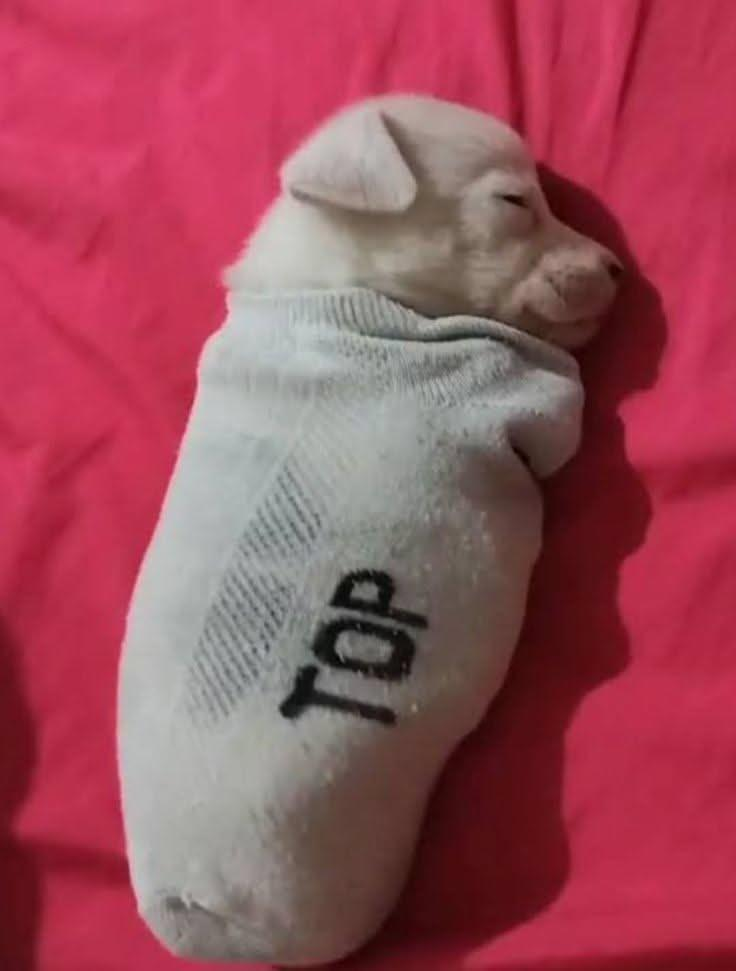puppy-dog: (116, 95, 624, 959)
